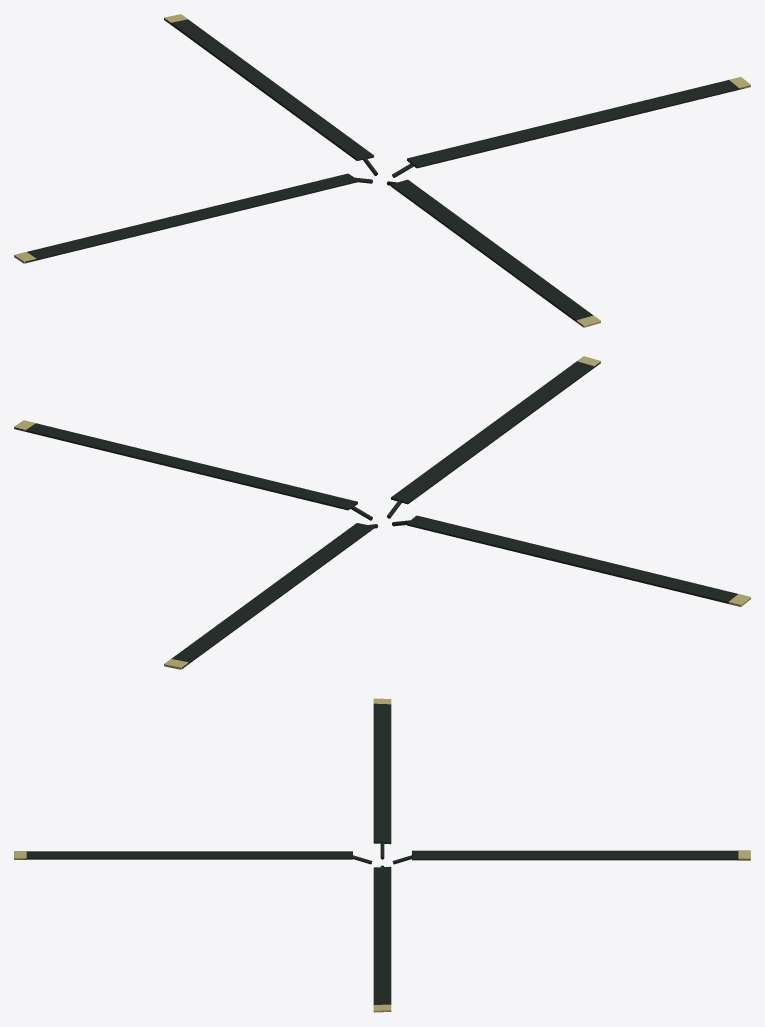
Rendered from TransportRotor.fbx.
3 renders of one model, top to bottom at view 1: azimuth 30°, elevation 25°; view 2: azimuth 150°, elevation 25°; view 3: azimuth 270°, elevation 25°, orthographic. The views are drawn at different scales.
Parts seen in each view (by area): view 1: TransportRotor; view 2: TransportRotor; view 3: TransportRotor.
Part boxes in pixels (bbox=[...]): TransportRotor: bbox=[14, 14, 750, 327]; TransportRotor: bbox=[14, 356, 750, 669]; TransportRotor: bbox=[14, 698, 750, 1012].
Bounding box in the file's own units: 1372 × 1372 × 21.45.
